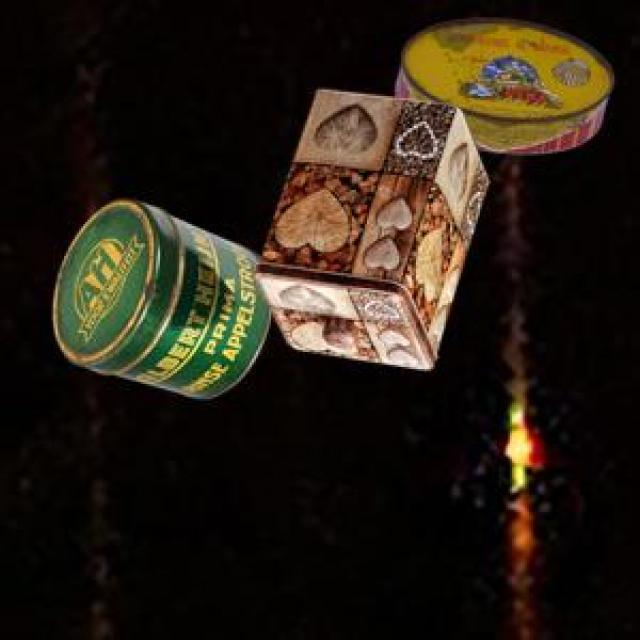Can: (251, 86, 485, 366), (50, 195, 268, 396), (391, 16, 611, 150)
